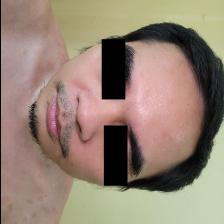Psoriasis vulgaris: (138, 60, 186, 142)
